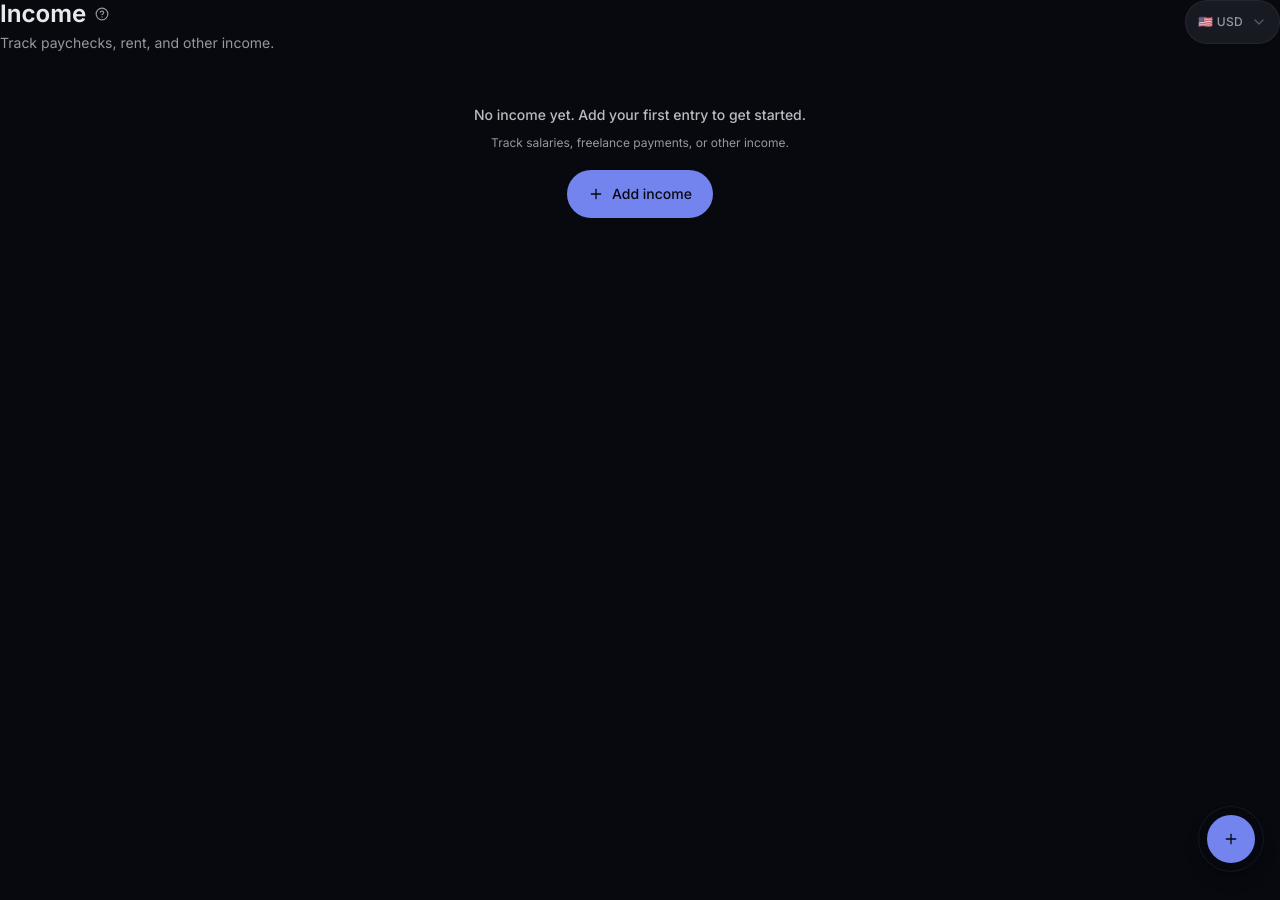
Scenario: IncomePage opens add income sheet from page action
This screenshot has width=1280, height=900.
Click the button "Add income".
click(640, 194)  # box [567,170,713,218]
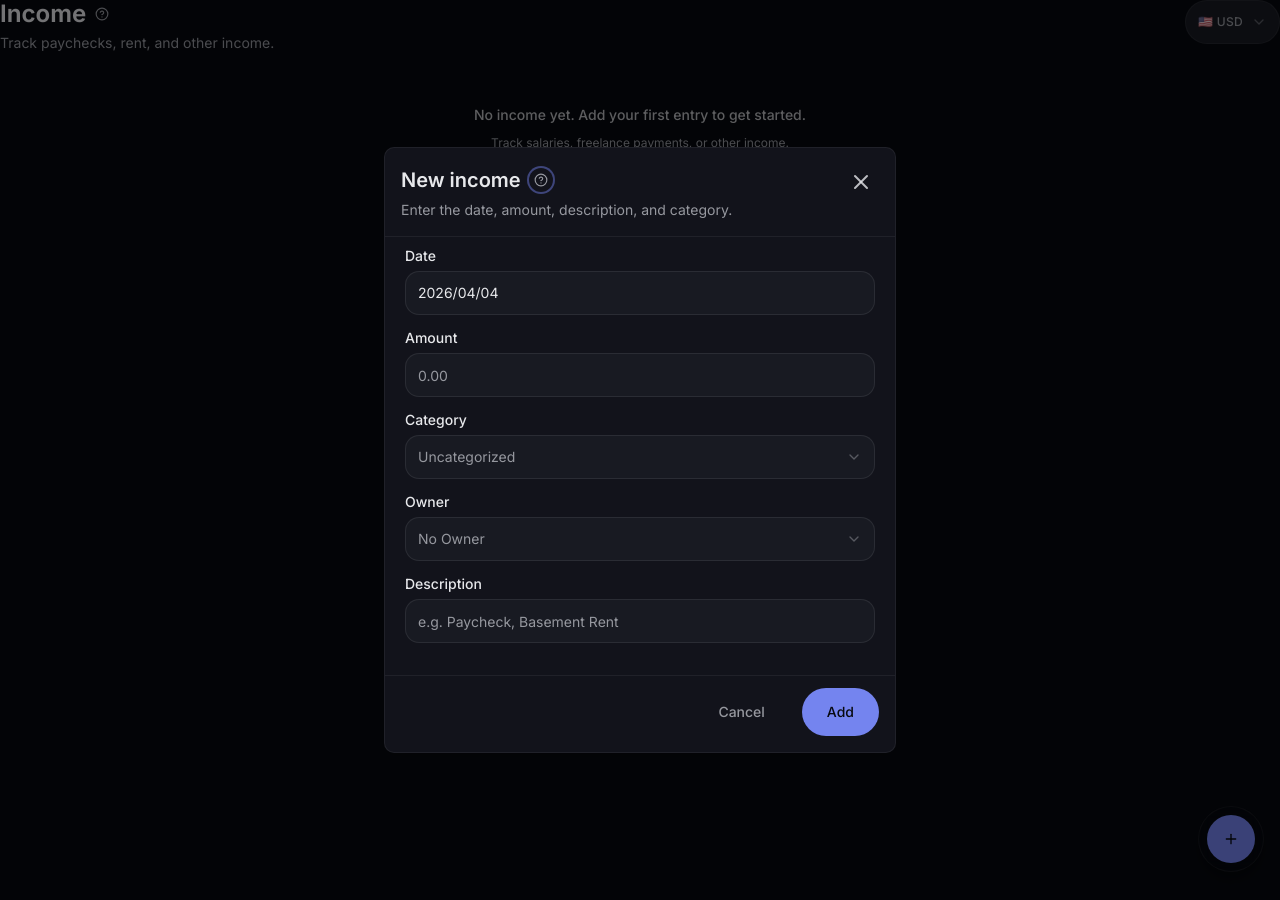
Result: the text "New income" is shown at [401,168,553,192]
